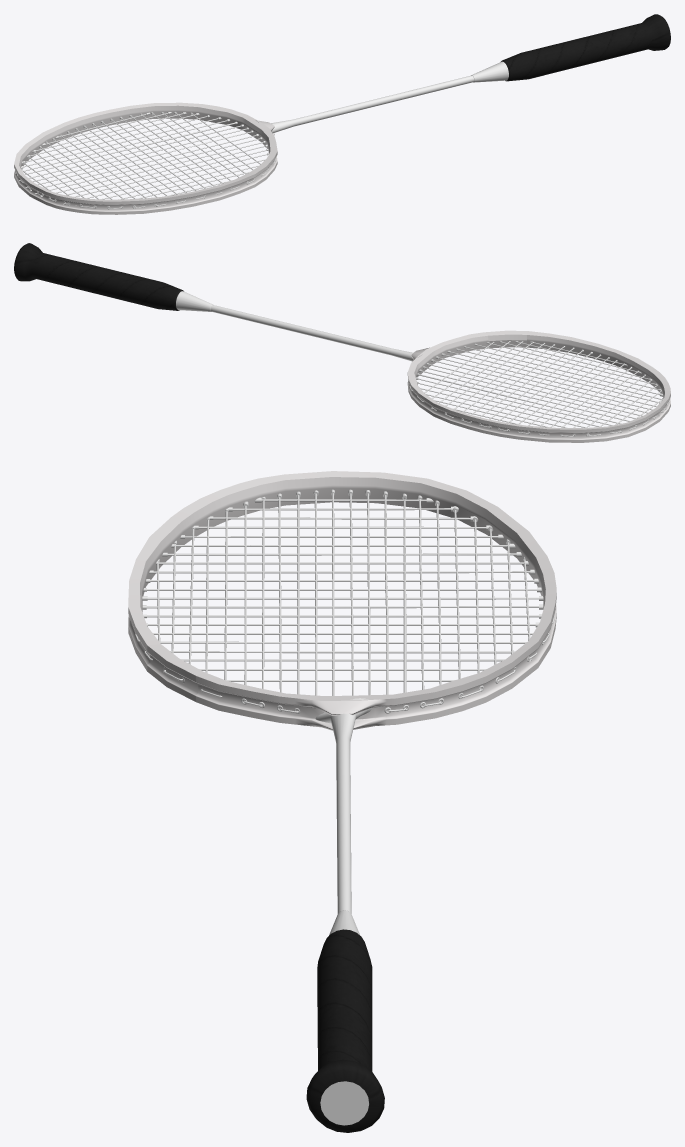
File: racket.glb
3 views of the same model, one above another, from view 1: azimuth 30°, elevation 25°; view 2: azimuth 150°, elevation 25°; view 3: azimuth 270°, elevation 25° (orthographic). The views are drawn at different scales.
Parts seen in each view (by area): view 1: Frame, String, Handle, Long, Node56; view 2: Frame, String, Handle, Long; view 3: Frame, String, Handle, Long, Node56.
Boxes of the visible parts, x1=… form: Frame: x1=14, y1=102, x2=277, y2=214; String: x1=15, y1=113, x2=267, y2=205; Handle: x1=501, y1=14, x2=670, y2=81; Long: x1=256, y1=61, x2=508, y2=133; Node56: x1=21, y1=112, x2=268, y2=174; Frame: x1=407, y1=330, x2=670, y2=442; String: x1=417, y1=341, x2=666, y2=436; Handle: x1=14, y1=243, x2=183, y2=310; Long: x1=176, y1=291, x2=421, y2=361; Frame: x1=128, y1=471, x2=556, y2=730; String: x1=146, y1=493, x2=538, y2=710; Handle: x1=306, y1=929, x2=384, y2=1132; Long: x1=315, y1=698, x2=372, y2=1125; Node56: x1=142, y1=489, x2=543, y2=627.
Bounding box in the file's own units: 75.44 × 3.91 × 22.04.
4 materials, 1 textured.
